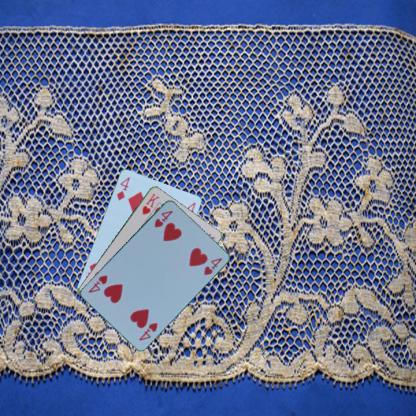4d: (114, 174, 131, 202)
4h: (136, 320, 159, 342), (151, 208, 174, 228)
Kh: (139, 191, 161, 216)
